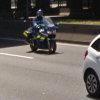Motorcycle: (16, 9, 67, 54)
